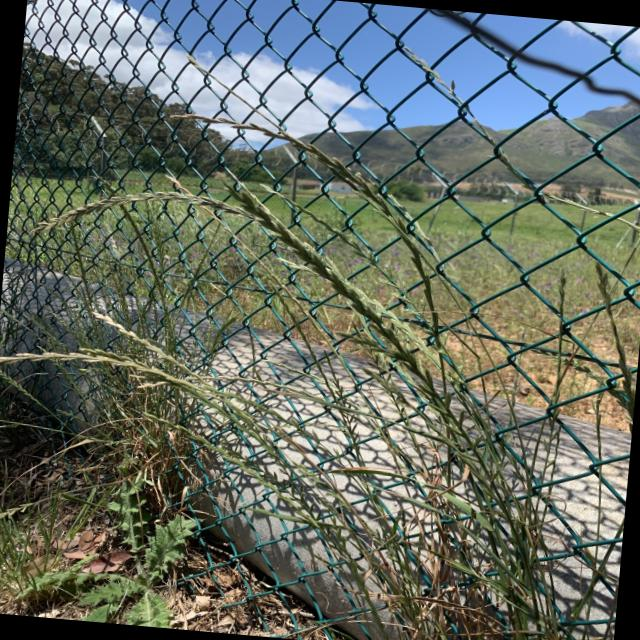Lolium: (174, 180, 587, 640), (98, 93, 472, 408), (0, 331, 403, 519), (42, 177, 256, 242)
